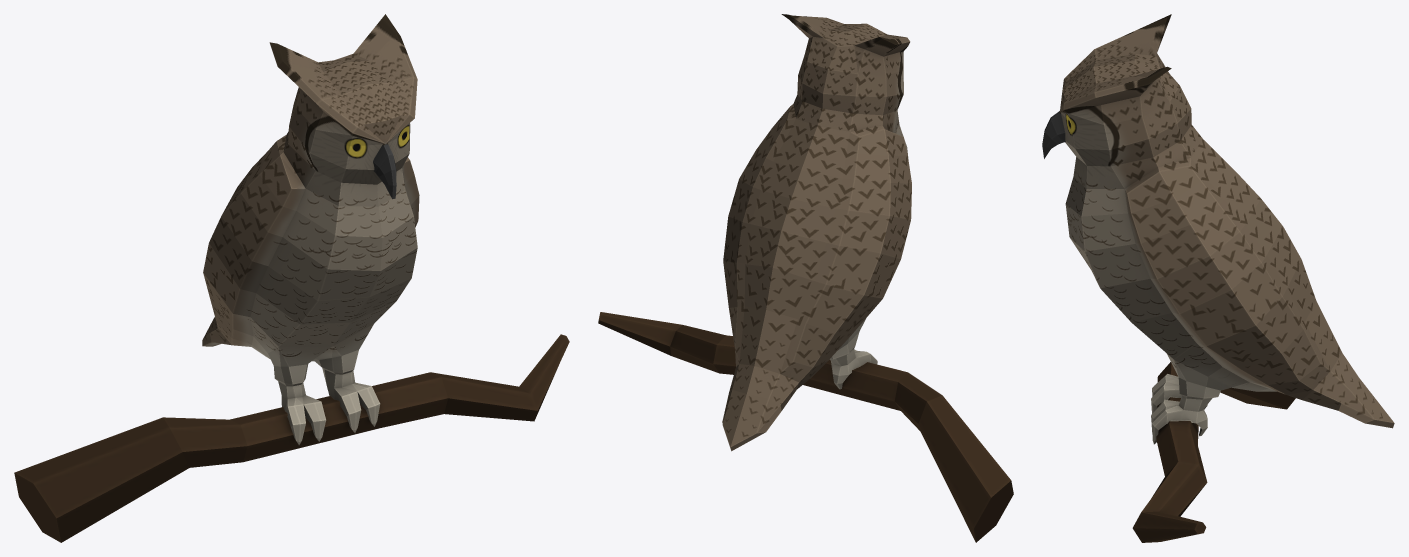
File: npc_owl.glb
The picture shows the model from 3 angles, left to right: view 1: azimuth 30°, elevation 25°; view 2: azimuth 150°, elevation 25°; view 3: azimuth 270°, elevation 25°; orthographic projection. The views are drawn at different scales.
Visible parts, largest first — view 1: GreatHornedOwl_mesh; view 2: GreatHornedOwl_mesh; view 3: GreatHornedOwl_mesh.
Boxes of the visible parts, x1,y1,x2,y2 form: GreatHornedOwl_mesh: (14, 14, 569, 542); GreatHornedOwl_mesh: (598, 14, 1013, 542); GreatHornedOwl_mesh: (1042, 14, 1394, 542).
Size of the model in its own units: 9.98 by 9.32 by 6.28.
Materials: 1 (1 with a texture image).
